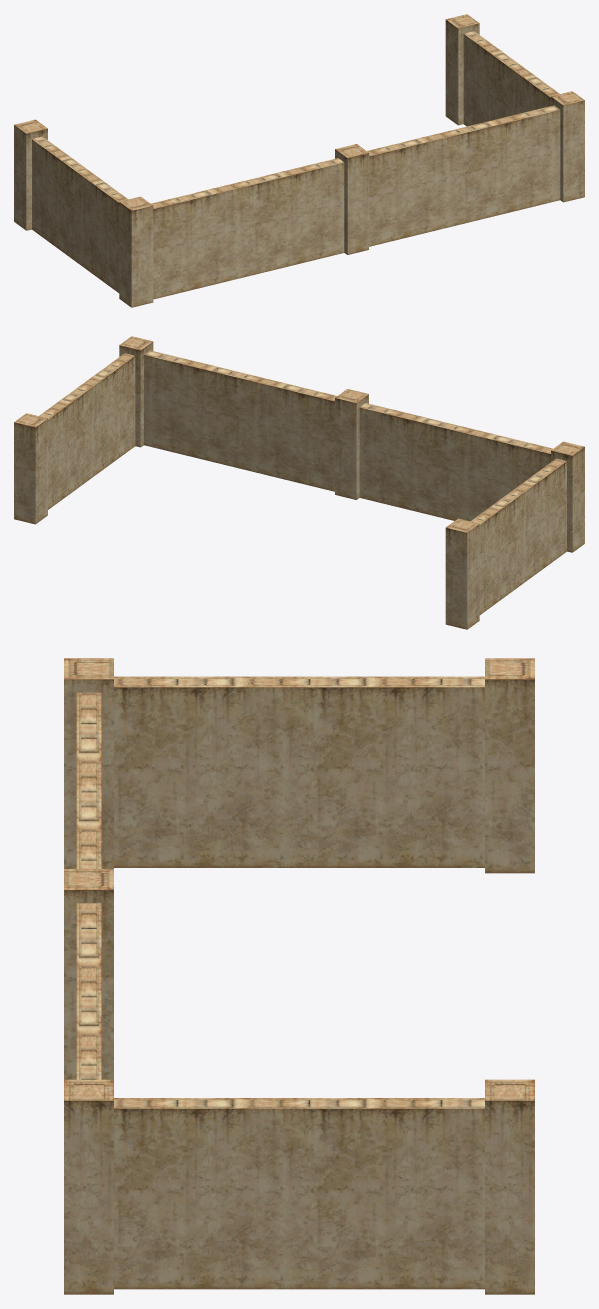
File: poi_tato_corral_half_32x32_s04_l0.fbx
3 views of the same model, one above another, from view 1: azimuth 30°, elevation 25°; view 2: azimuth 150°, elevation 25°; view 3: azimuth 270°, elevation 25° (orthographic). The views are drawn at different scales.
Visible parts, largest first — view 1: mesh_node; view 2: mesh_node; view 3: mesh_node.
Boxes of the visible parts, left/top/right/bottom form: mesh_node: left=14, top=14, right=584, bottom=307; mesh_node: left=14, top=336, right=584, bottom=629; mesh_node: left=64, top=658, right=534, bottom=1294.
Bounding box in the file's own units: 21 × 4.29 × 9.44.
